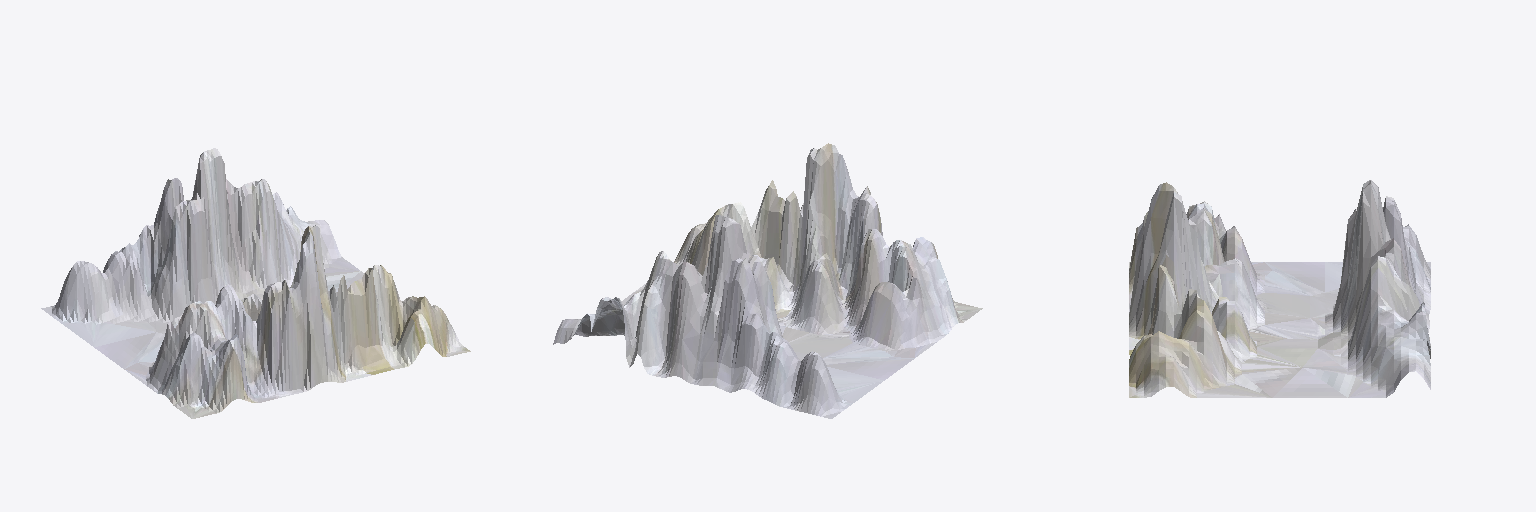
3 views of the same model, side by side, from view 1: azimuth 30°, elevation 25°; view 2: azimuth 150°, elevation 25°; view 3: azimuth 270°, elevation 25° (orthographic).
Parts seen in each view (by area): view 1: Plane01; view 2: Plane01; view 3: Plane01.
Part boxes in pixels (x1,y1,x2,y2): Plane01: (41, 148, 470, 418); Plane01: (553, 143, 982, 418); Plane01: (1129, 180, 1430, 397).
Bounding box in the file's own units: 257 × 131 × 242.
Materials: 1 (1 with a texture image).